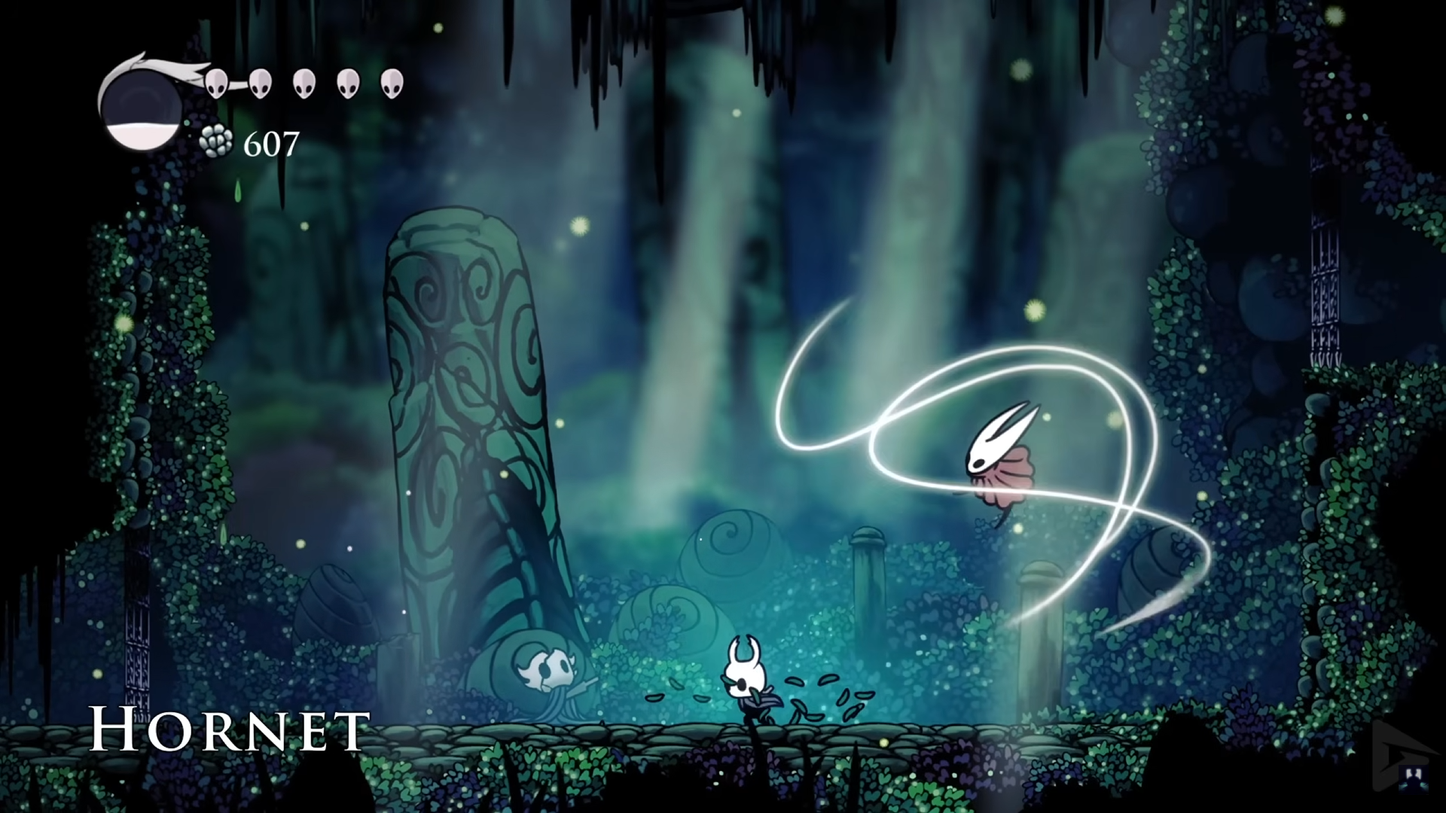HK: (716, 633, 777, 728)
